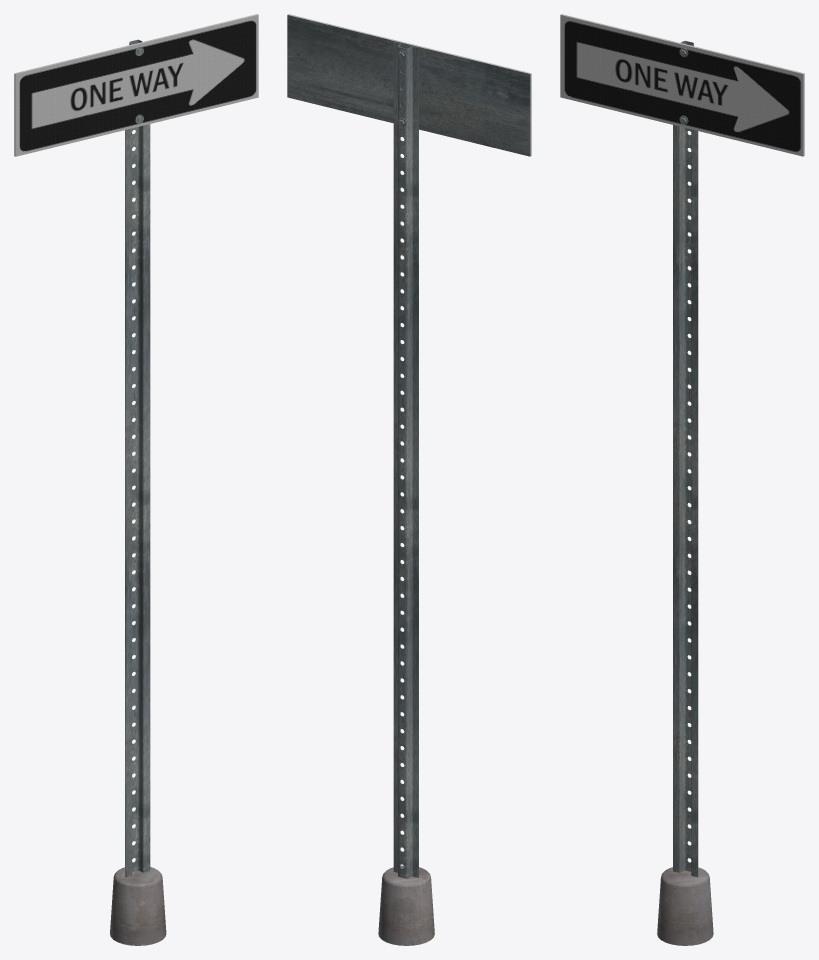
Rendered from onewayright_nsoc.obj.
3 renders of one model, left to right at view 1: azimuth 30°, elevation 25°; view 2: azimuth 150°, elevation 25°; view 3: azimuth 330°, elevation 25°, orthographic.
Visible parts, largest first — view 1: sign_one_way_right_b; view 2: sign_one_way_right_b; view 3: sign_one_way_right_b.
Boxes of the visible parts, <box> form: sign_one_way_right_b: <box>14,14,258,945</box>; sign_one_way_right_b: <box>287,14,531,945</box>; sign_one_way_right_b: <box>560,14,804,945</box>.
Size of the model in its own units: 29.05 by 102 by 5.84.
Materials: 3 (3 with a texture image).
